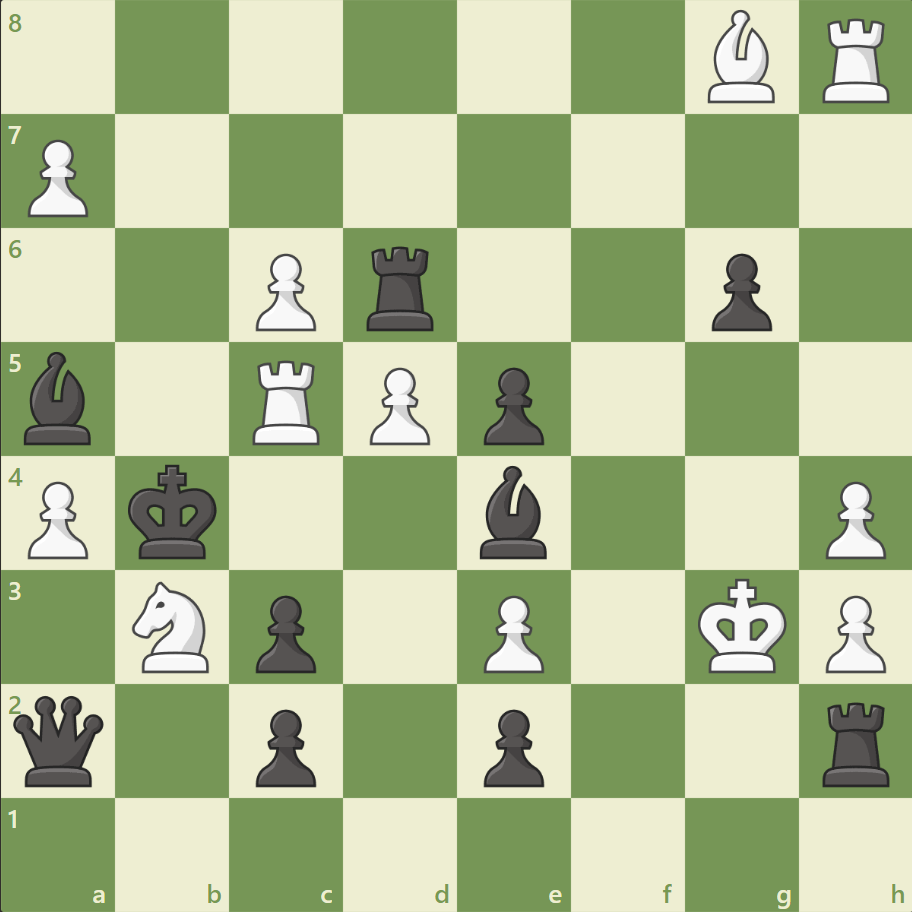B: (698, 6, 782, 109)
K: (692, 571, 792, 679)
N: (124, 575, 222, 677)
P: (20, 132, 95, 223), (247, 246, 322, 337), (20, 473, 95, 564), (474, 586, 549, 677), (361, 359, 435, 450), (815, 473, 889, 564), (815, 586, 889, 677)
R: (814, 12, 897, 109), (246, 352, 329, 449)
b: (471, 460, 555, 563), (17, 347, 101, 449)
k: (124, 458, 224, 566)
p: (701, 246, 776, 337), (474, 359, 549, 450), (247, 586, 322, 677), (247, 700, 322, 791), (474, 700, 549, 791)
q: (10, 690, 109, 789)
r: (814, 693, 897, 790), (360, 239, 442, 336)
